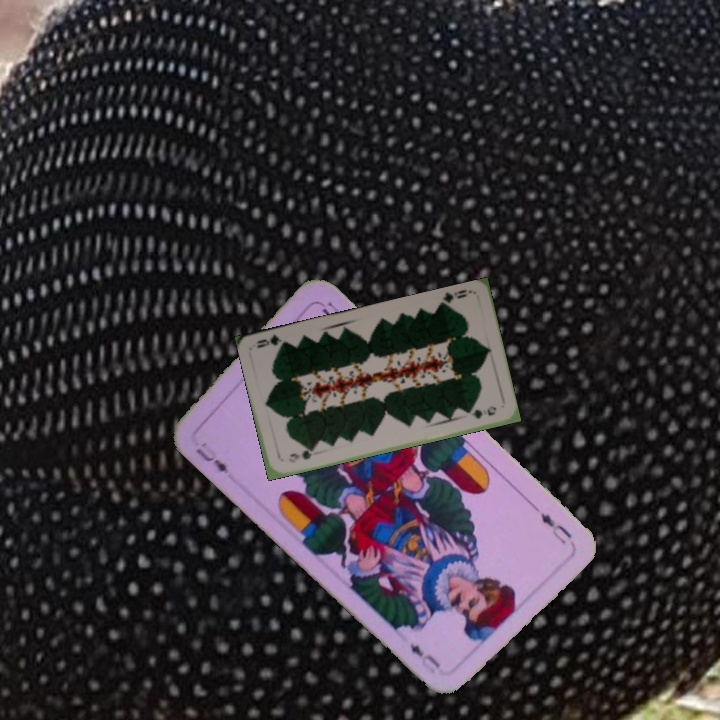EU: (527, 499, 575, 547), (191, 443, 231, 477)
G9: (435, 285, 474, 309), (285, 445, 317, 466)
